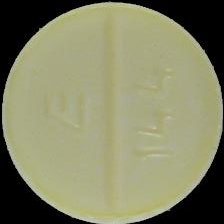61786-309: (0, 0, 224, 224)
